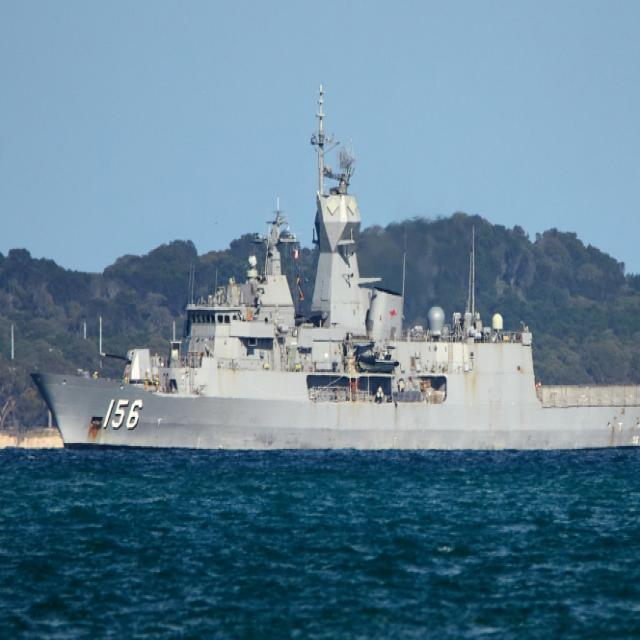Fragata: (28, 84, 640, 462)
